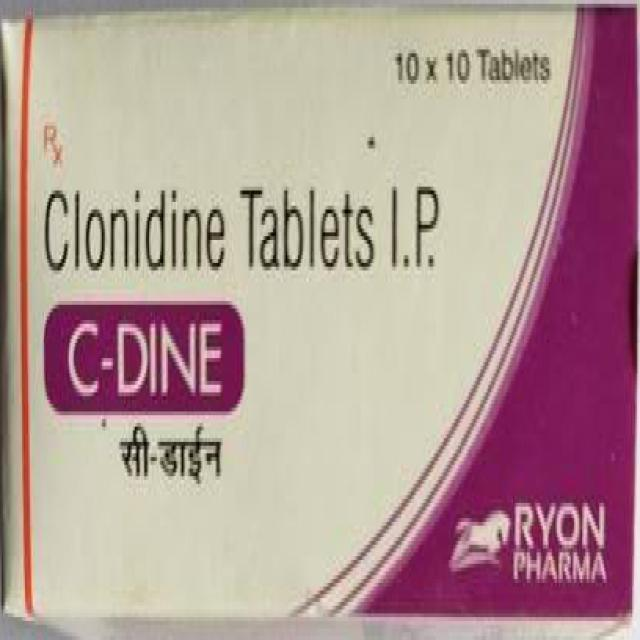drug-name: (65, 314, 228, 402)
